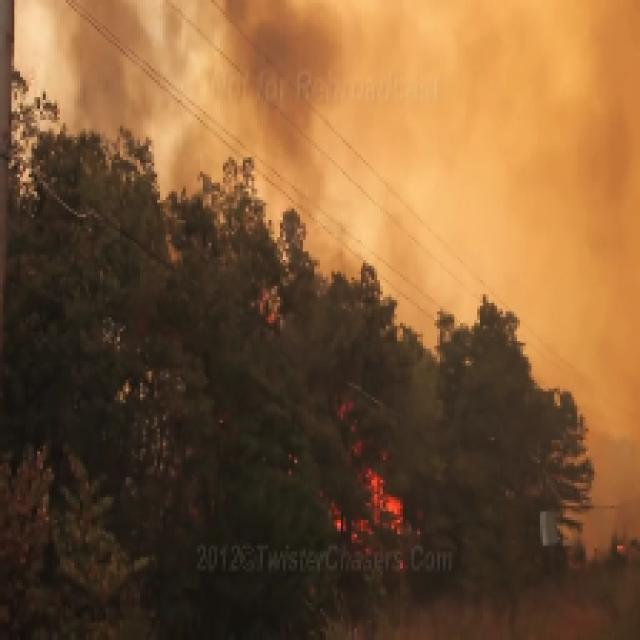Fire: (272, 368, 474, 572)
Smoke: (8, 8, 640, 300)
